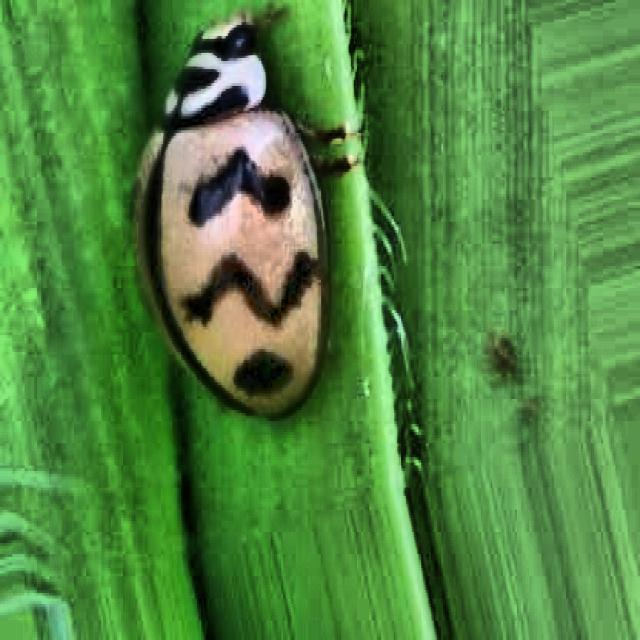Asian-Lady-beetle: (91, 0, 360, 478)
